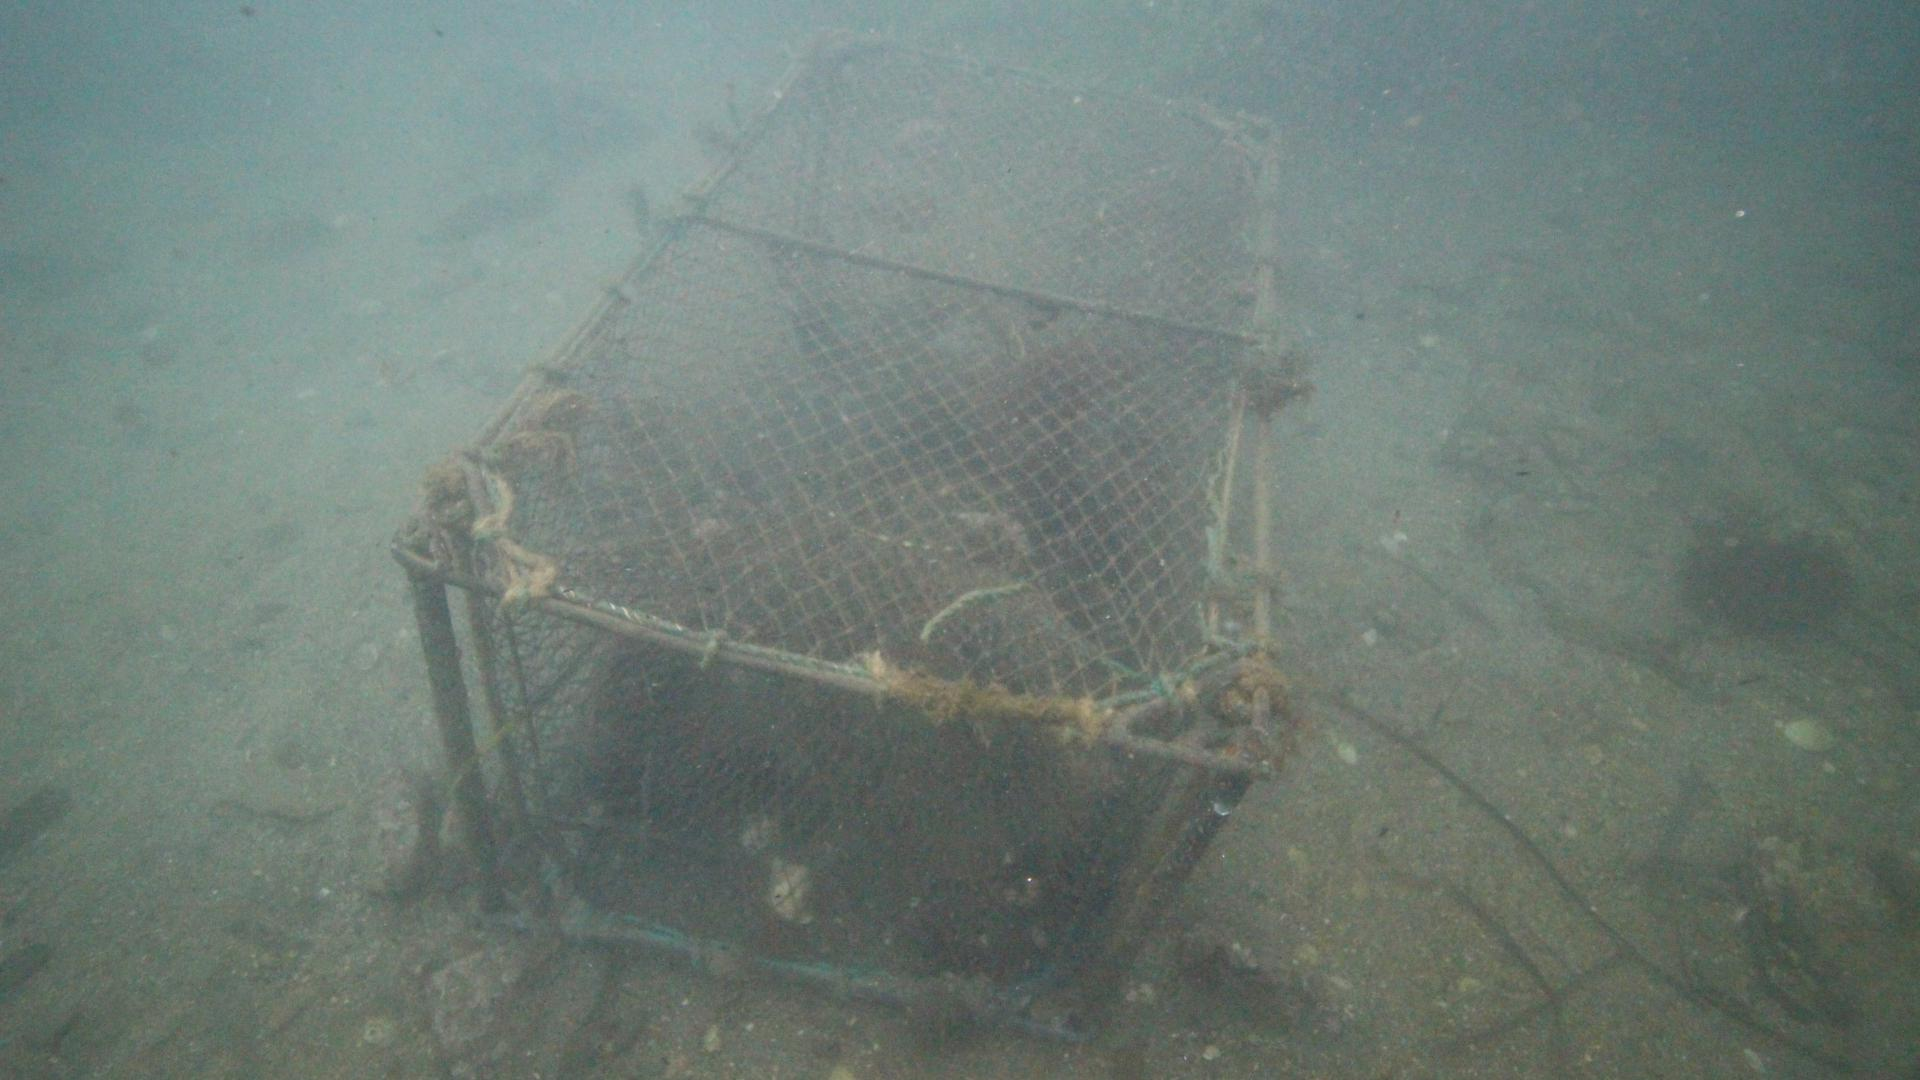rectangular fish trap: (396, 25, 1284, 1077)
